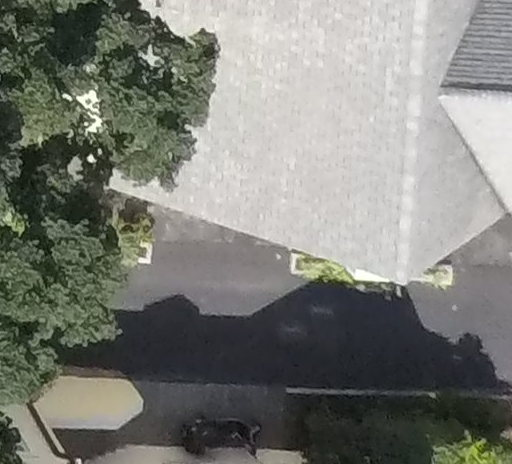flower bed: (290, 248, 469, 285)
